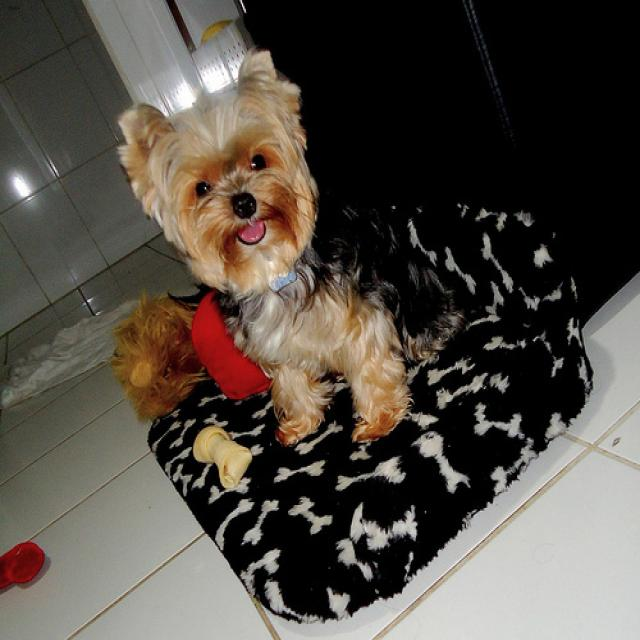dog-yorkshire_terrier: (90, 39, 475, 457)
